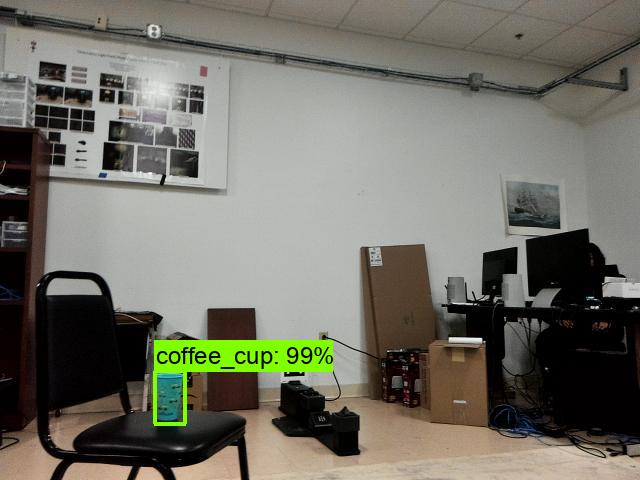coffee_cup: (152, 371, 183, 423)
